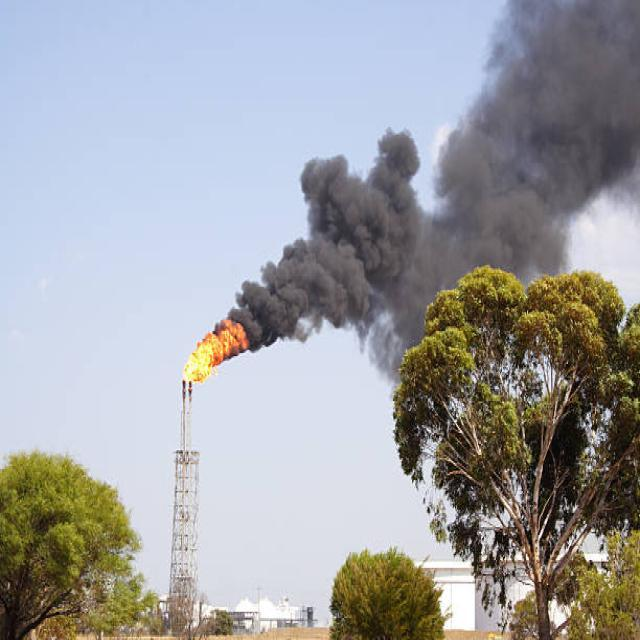Fire: (186, 316, 250, 384)
Smoke: (250, 0, 640, 359)
